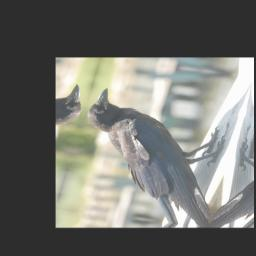Crow: (60, 86, 246, 227)
